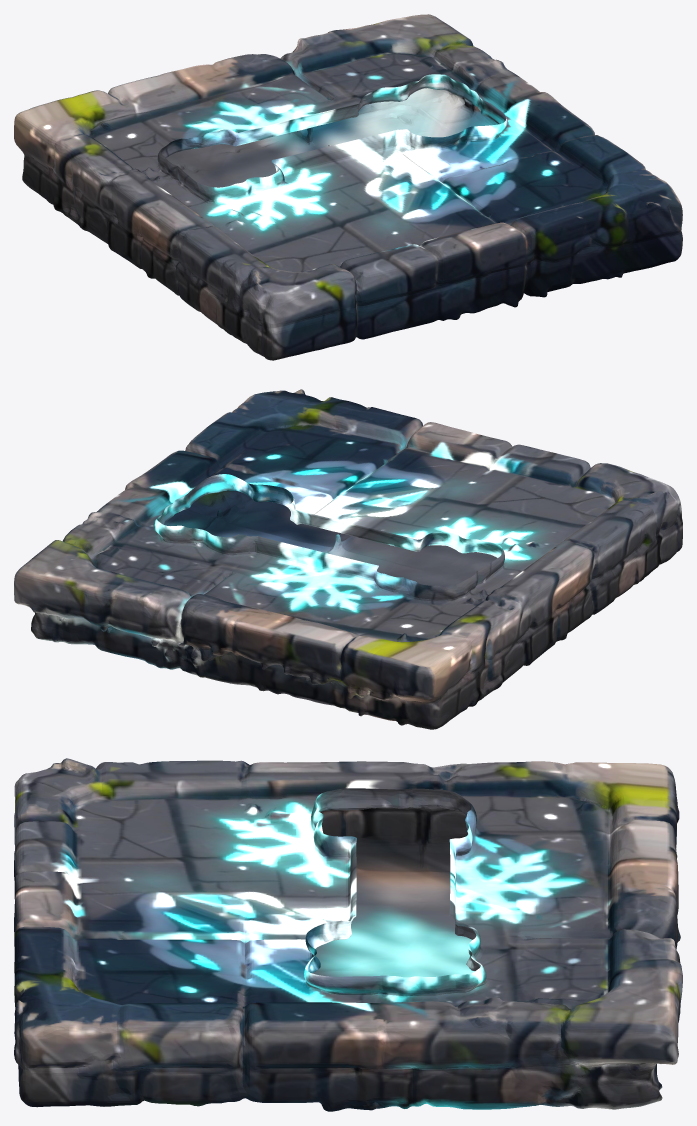
File: glacier_plate.glb
3 views of the same model, one above another, from view 1: azimuth 30°, elevation 25°; view 2: azimuth 150°, elevation 25°; view 3: azimuth 270°, elevation 25° (orthographic). The views are drawn at different scales.
Parts seen in each view (by area): view 1: glacier_plate; view 2: glacier_plate; view 3: glacier_plate.
Part boxes in pixels (left/top/right/bottom): glacier_plate: left=14, top=14, right=682, bottom=360; glacier_plate: left=14, top=389, right=682, bottom=729; glacier_plate: left=14, top=758, right=682, bottom=1111.
Size of the model in its own units: 1.9 by 0.3385 by 2.02.
Materials: 1 (1 with a texture image).
